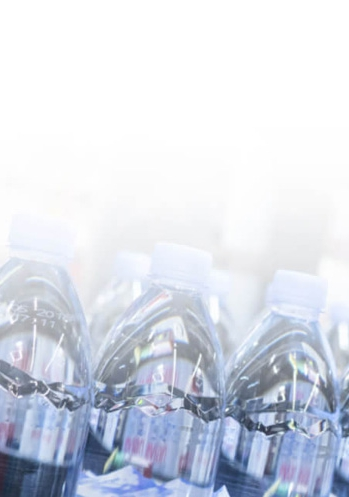plastic water bottle: (93, 233, 229, 497), (221, 252, 349, 497), (1, 197, 97, 497)
